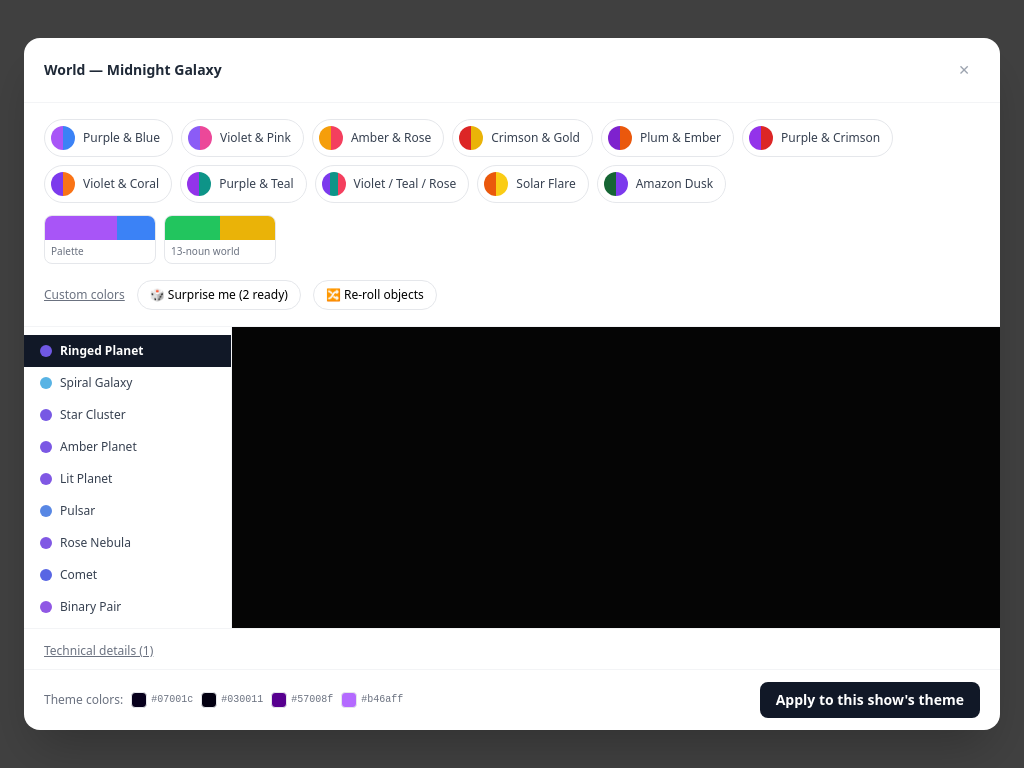
Scenario: WorldPaletteEditor › Re-roll objects shows a plain error instead of crashing when every retry fails (2026-09-24 fix wave finding #2 — draws exhaust REROLL_MAX_ATTEMPTS, don't loop f
What coordinates should you click on to do the following:
click the button "🔀 Re-roll objects"
I would click on:
 (375, 295)
Its box is left=313, top=280, right=437, bottom=310.
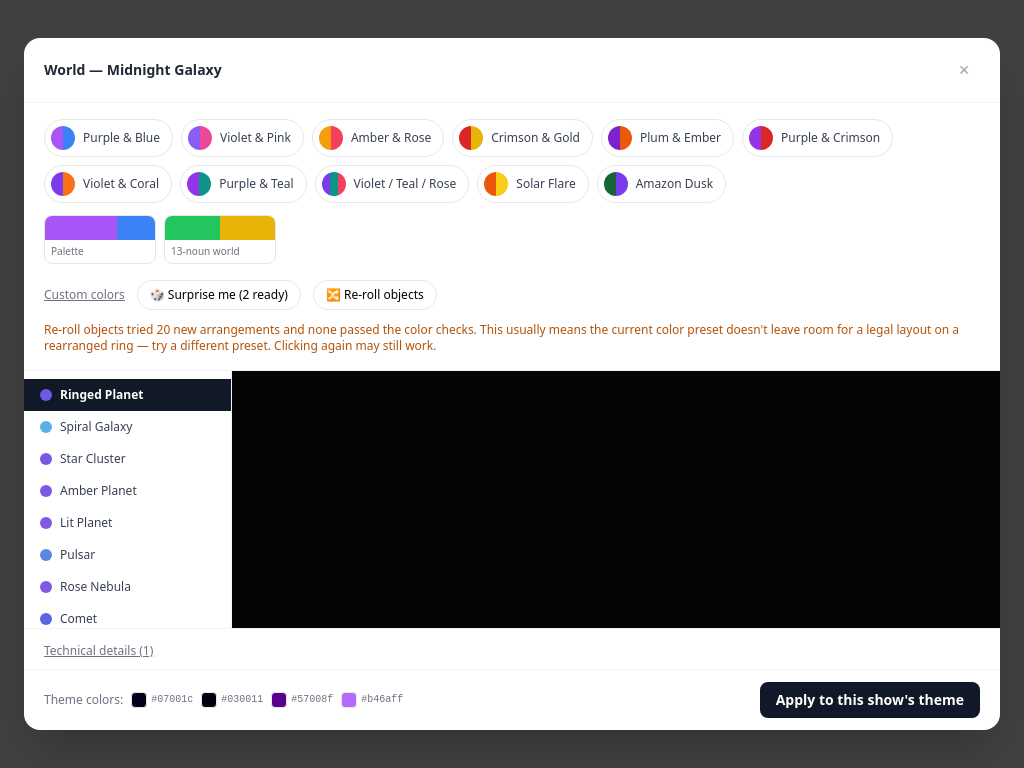
Expected: the button "Apply to this show's theme" is shown, left=760, top=682, right=980, bottom=718
Expected: the text "none passed the color checks" is shown, left=44, top=321, right=959, bottom=354
